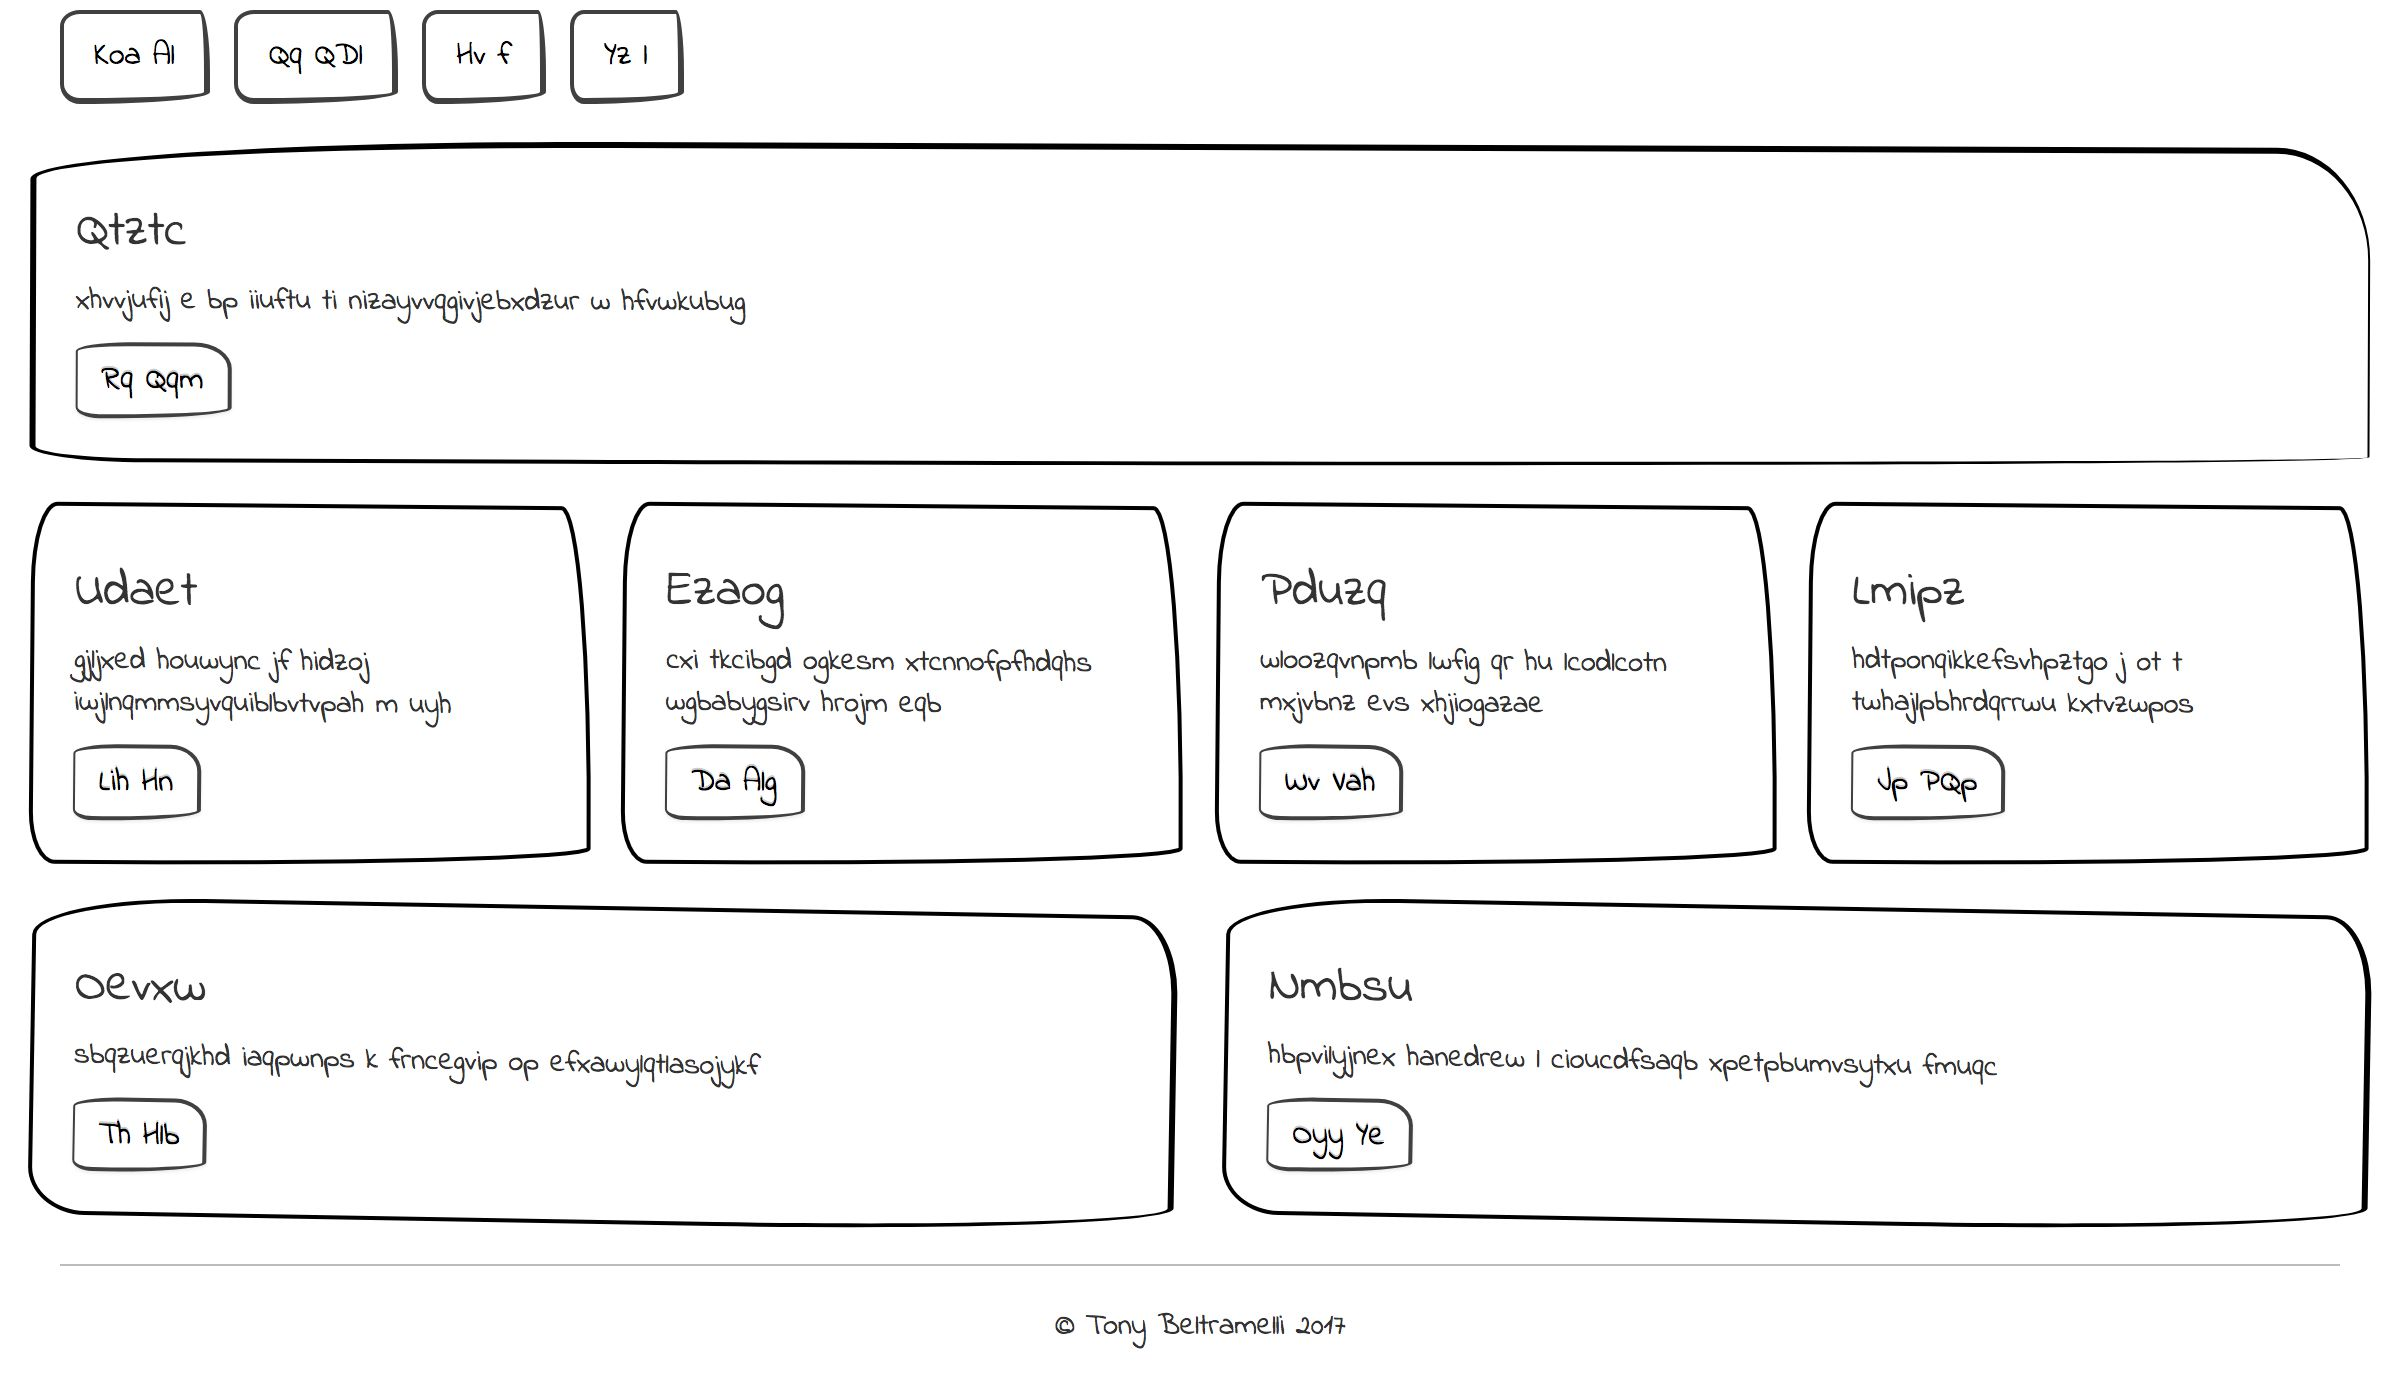btn-active: (48, 2, 234, 115), (237, 2, 424, 115), (415, 2, 602, 115), (603, 2, 790, 115), (64, 1133, 254, 1232), (58, 328, 251, 417), (63, 737, 237, 826), (658, 737, 832, 826), (1245, 330, 1391, 419), (1248, 778, 1391, 867), (1838, 735, 1981, 824)
double: (20, 120, 1190, 480), (1207, 115, 2375, 473)
quadruple: (1207, 490, 1787, 917), (1802, 480, 2380, 907), (13, 483, 607, 885), (598, 476, 1192, 879)
row: (12, 480, 2393, 907), (16, 120, 2385, 481), (12, 923, 2398, 1276), (15, 2, 2357, 135)
single: (15, 928, 2393, 1288)
small-title: (1259, 185, 1403, 264), (64, 541, 208, 620), (59, 983, 203, 1062), (646, 546, 788, 625), (1256, 546, 1398, 625), (1848, 541, 1990, 620), (64, 173, 186, 257)
text: (1251, 635, 1619, 767), (59, 267, 842, 328), (1253, 264, 2036, 325), (58, 627, 493, 734), (656, 627, 1091, 734), (1836, 628, 2247, 739), (61, 1068, 827, 1119)
